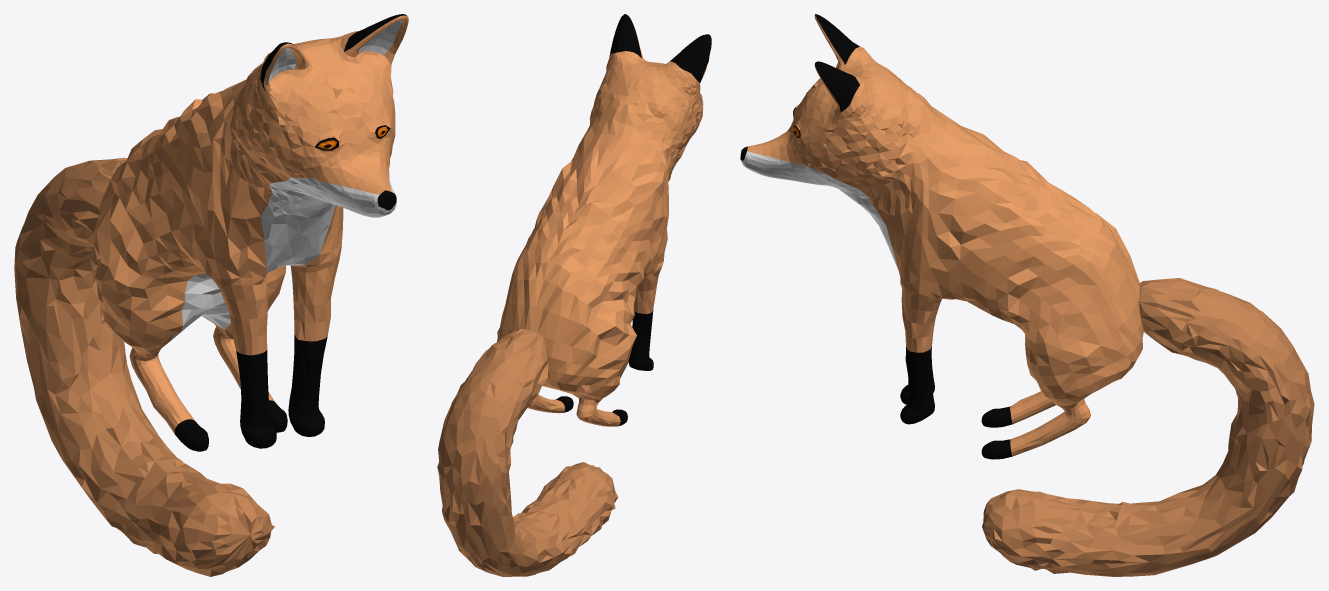
Rendered from fox.glb.
3 renders of one model, left to right at view 1: azimuth 30°, elevation 25°; view 2: azimuth 150°, elevation 25°; view 3: azimuth 270°, elevation 25°, orthographic. The views are drawn at different scales.
Visible parts, largest first — view 1: body, tail; view 2: body, tail; view 3: body, tail.
Part boxes in pixels (x1,y1,x2,y2): body: [93, 14, 408, 451]; tail: [14, 157, 274, 576]; body: [497, 14, 711, 426]; tail: [437, 329, 617, 576]; body: [740, 14, 1143, 459]; tail: [982, 278, 1314, 576].
Bounding box in the file's own units: 2.02 × 7.04 × 6.83.
